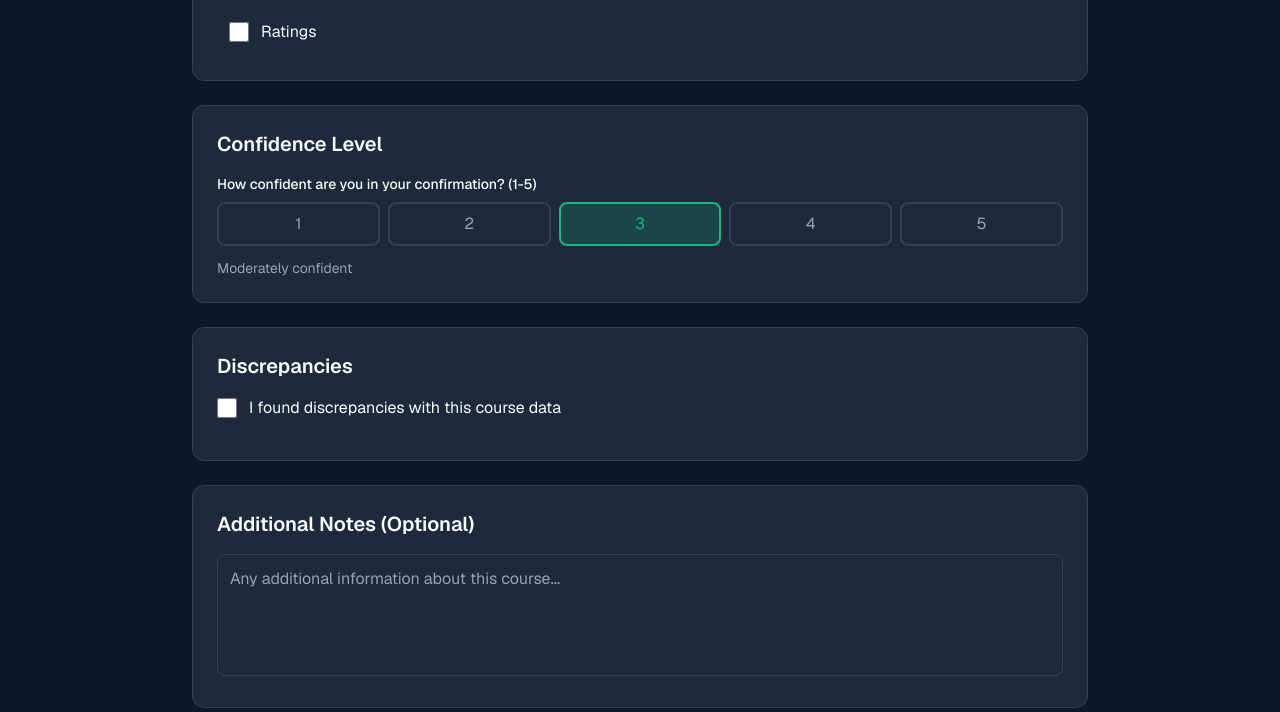
Test case: ConfirmCoursePage › should show discrepancy form when checkbox is checked
(page scrolled)
Expected: the text "I found discrepancies with this course data" is shown, [249,396,561,420]
Click the checkbox labelled "I found discrepancies with this course data": point(227, 408) [217,398,237,418]
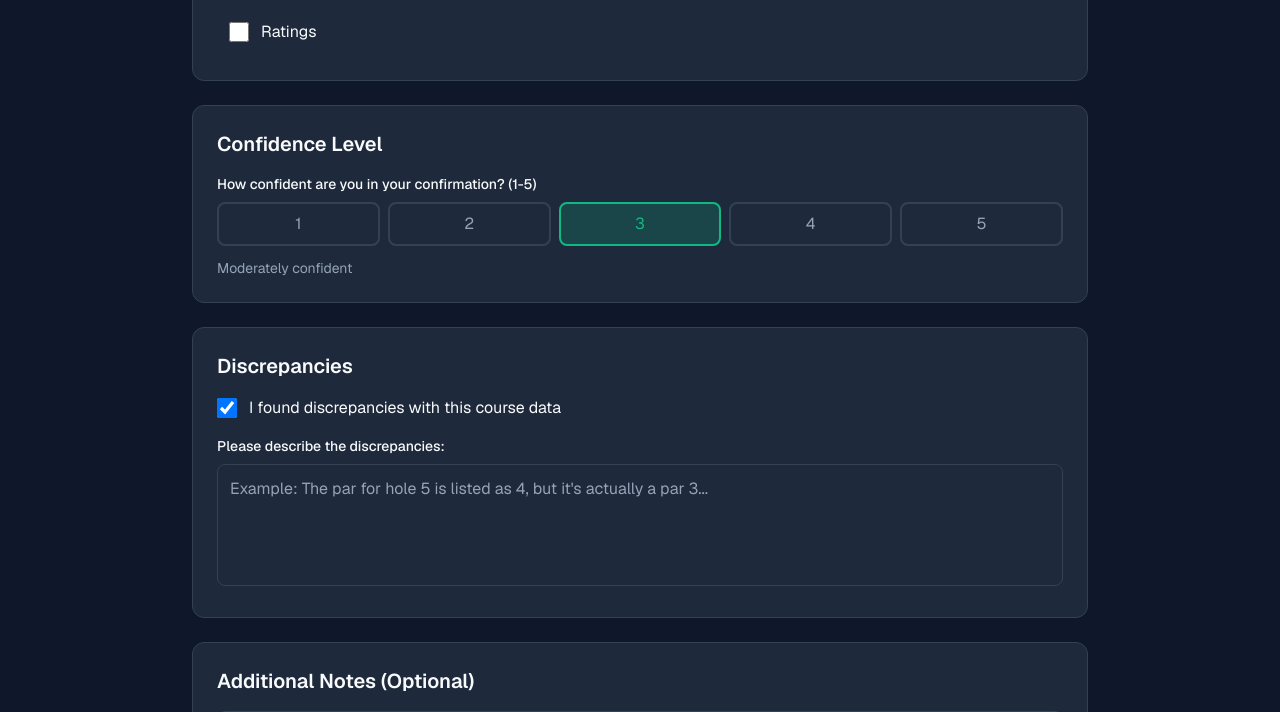
Result: the text box with placeholder "Example: The par for hole 5" is shown at [217,464,1063,586]
